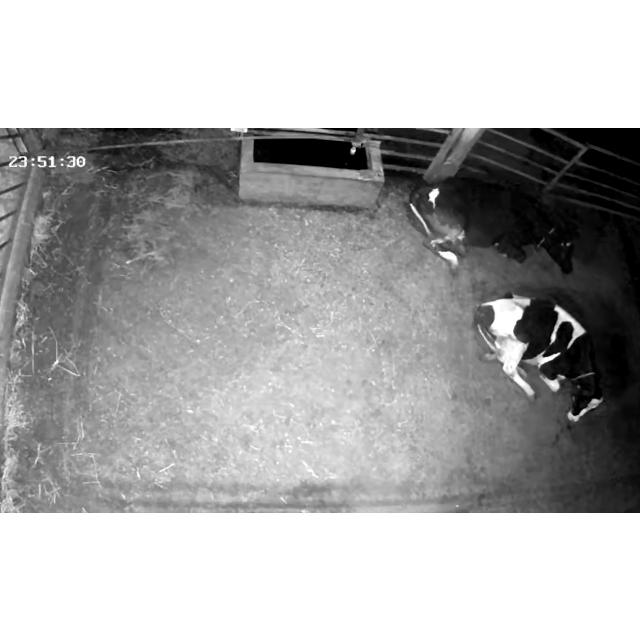lay: (468, 286, 622, 438), (406, 168, 590, 282)
